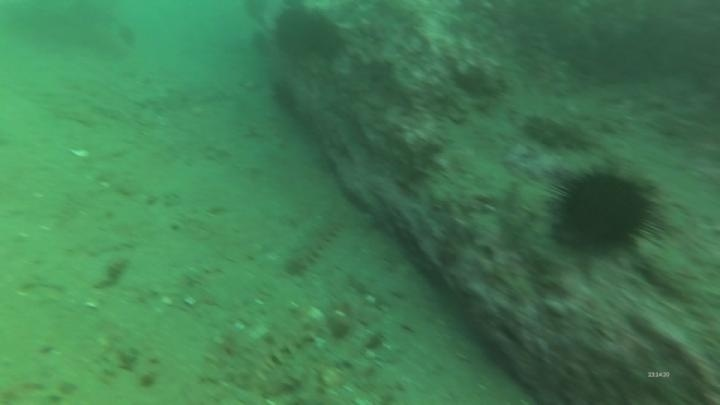echinus: (545, 162, 666, 261), (270, 4, 347, 65)
holothurian: (201, 305, 323, 390), (279, 207, 348, 278)
